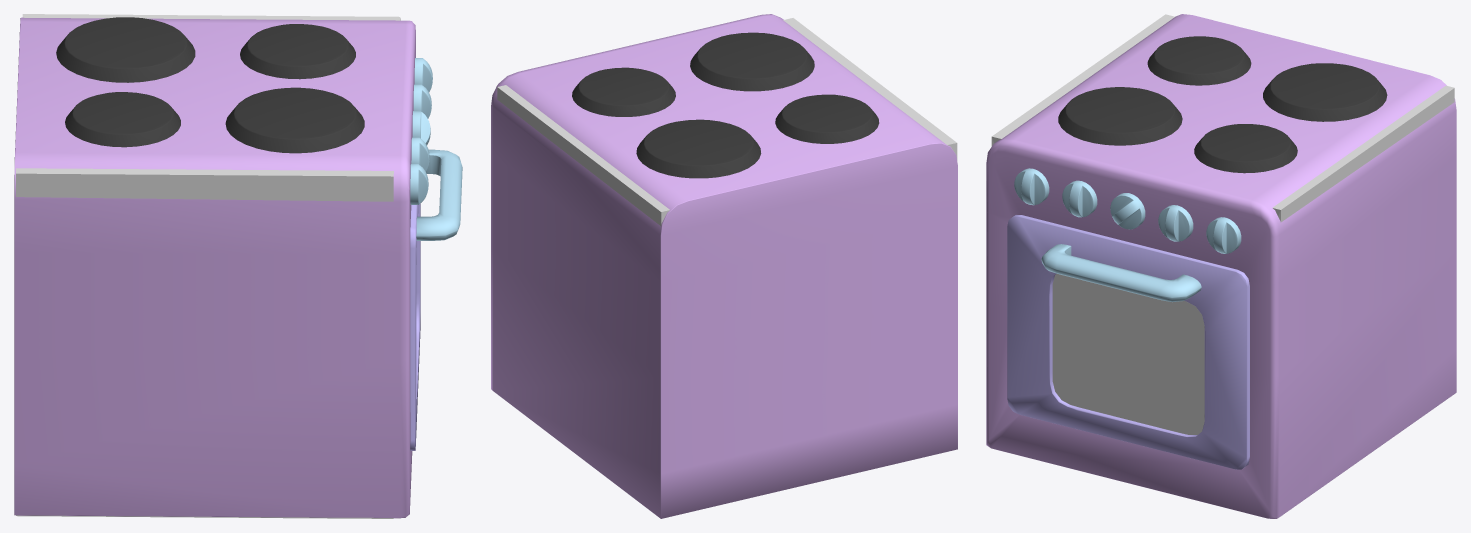
Rendered from uuni3.fbx.
3 renders of one model, left to right at view 1: azimuth 30°, elevation 25°; view 2: azimuth 150°, elevation 25°; view 3: azimuth 270°, elevation 25°, orthographic. The views are drawn at different scales.
Visible parts, largest first — view 1: uuni.001, lowpoly uuni, luukku.001; view 2: uuni.001, lowpoly uuni; view 3: uuni.001, luukku.001, lowpoly uuni.
Part boxes in pixels (bbox=[...]): uuni.001: bbox=[14, 17, 432, 518]; lowpoly uuni: bbox=[16, 14, 400, 518]; luukku.001: bbox=[410, 149, 462, 450]; uuni.001: bbox=[491, 14, 957, 518]; lowpoly uuni: bbox=[497, 18, 957, 225]; uuni.001: bbox=[986, 14, 1456, 518]; luukku.001: bbox=[1007, 215, 1249, 469]; lowpoly uuni: bbox=[991, 14, 1454, 222].
Size of the model in its own units: 1.6 by 1.19 by 1.58.
